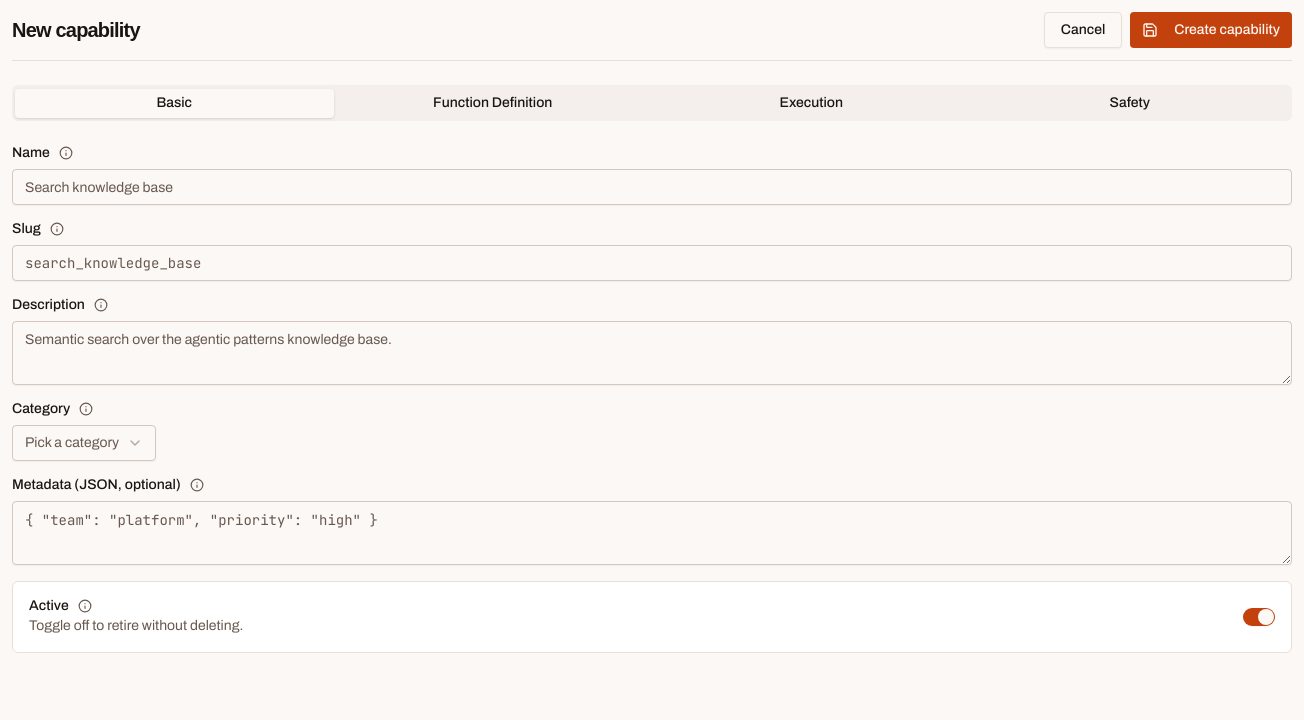
it: CapabilityForm — Execution tab › executionType select › default executionType is "internal"
Step 1. Click the tab "Execution" → (811, 103), box [652,88,970,118]
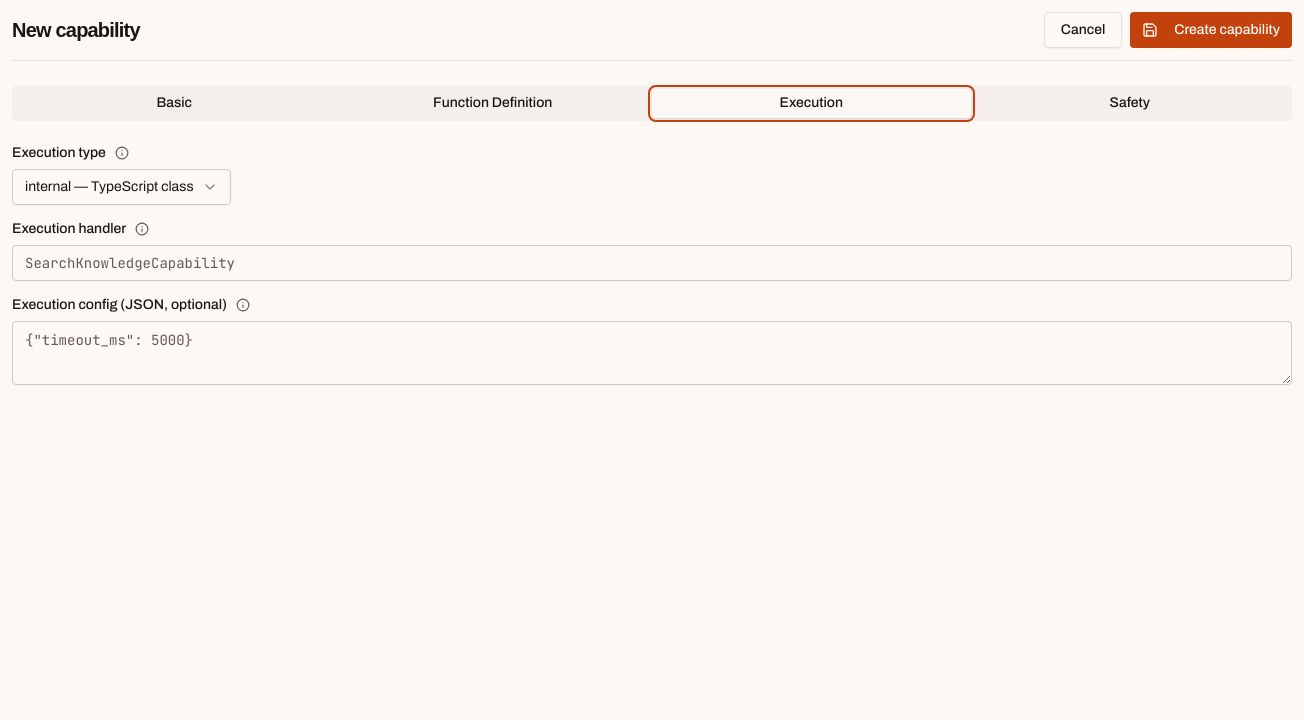
Now the dropdown shows "internal", box [12,169,230,205]
